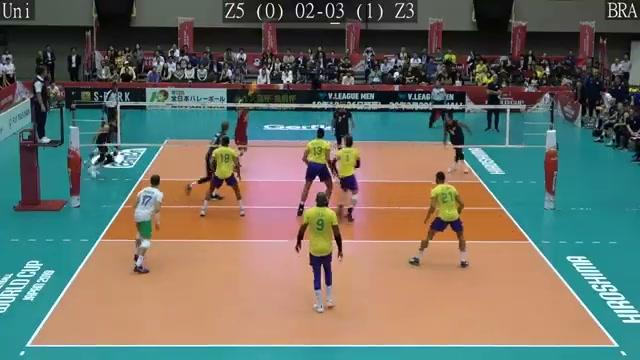ball: (249, 78, 259, 95)
